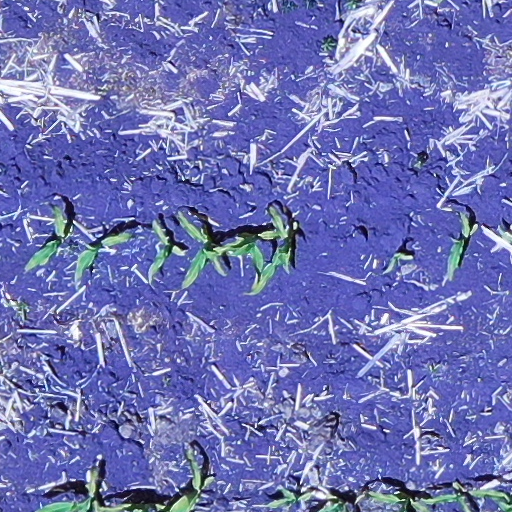planta: (179, 214, 227, 287), (251, 206, 290, 293), (26, 208, 75, 268), (75, 230, 132, 278), (206, 234, 265, 277), (149, 222, 185, 276), (447, 214, 477, 278), (268, 488, 315, 507)
